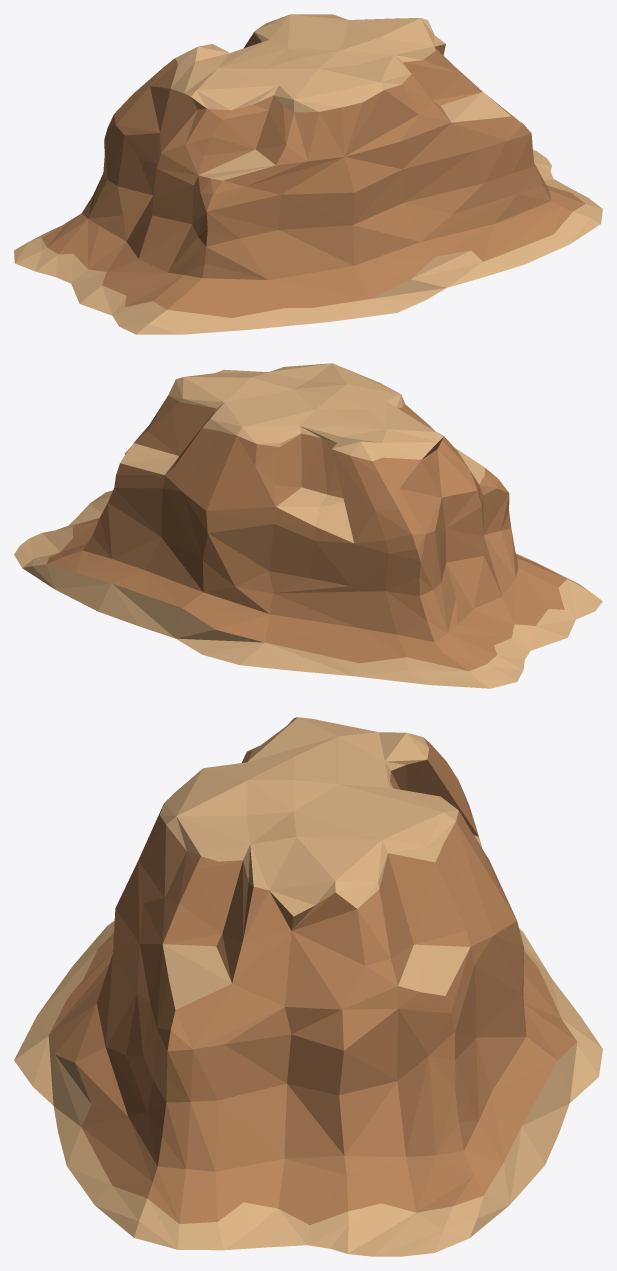
File: Rock_23.fbx
3 views of the same model, one above another, from view 1: azimuth 30°, elevation 25°; view 2: azimuth 150°, elevation 25°; view 3: azimuth 270°, elevation 25° (orthographic). The views are drawn at different scales.
Parts seen in each view (by area): view 1: Rock_23; view 2: Rock_23; view 3: Rock_23.
Part boxes in pixels (<box>): Rock_23: <box>14,14,602,334</box>; Rock_23: <box>14,363,602,688</box>; Rock_23: <box>14,717,602,1256</box>.
Size of the model in its own units: 1292 by 871 by 456.
